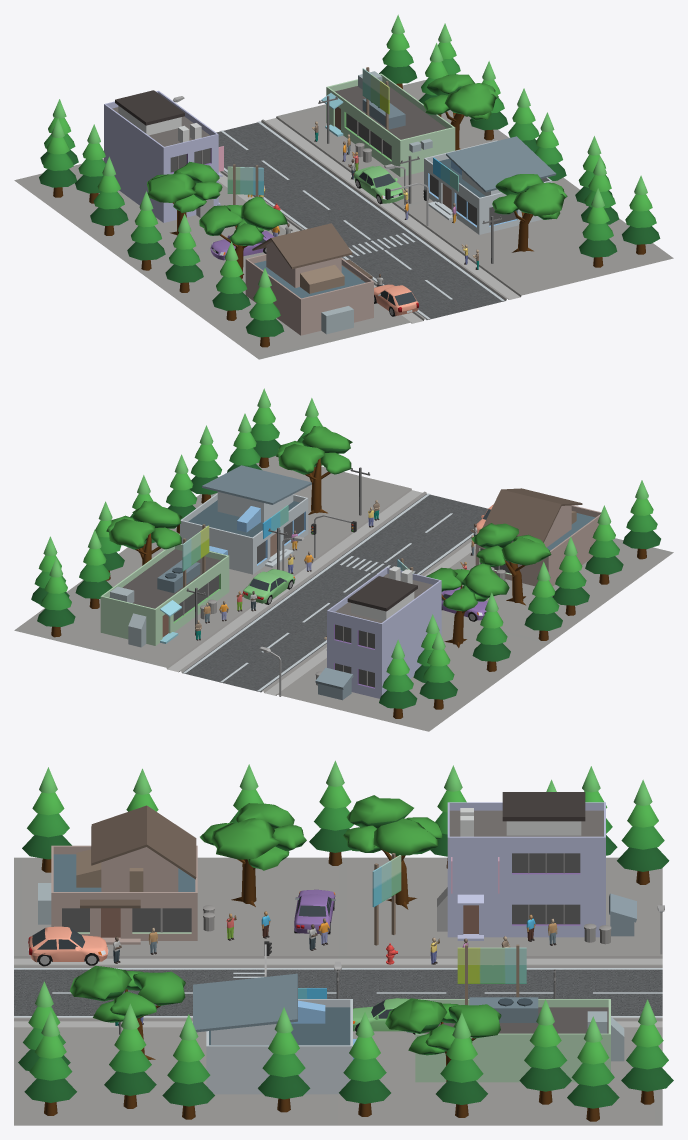
The model's file is SM_Block_BG_A.fbx.
3 renders of one model, top to bottom at view 1: azimuth 30°, elevation 25°; view 2: azimuth 150°, elevation 25°; view 3: azimuth 270°, elevation 25°, orthographic. The views are drawn at different scales.
Parts seen in each view (by area): view 1: SM_Block_BG_A; view 2: SM_Block_BG_A; view 3: SM_Block_BG_A.
Boxes of the visible parts, x1,y1,x2,y2 form: SM_Block_BG_A: (14, 14, 673, 359); SM_Block_BG_A: (14, 388, 673, 731); SM_Block_BG_A: (14, 760, 673, 1125).
Size of the model in its own units: 3043 by 586 by 3052.
